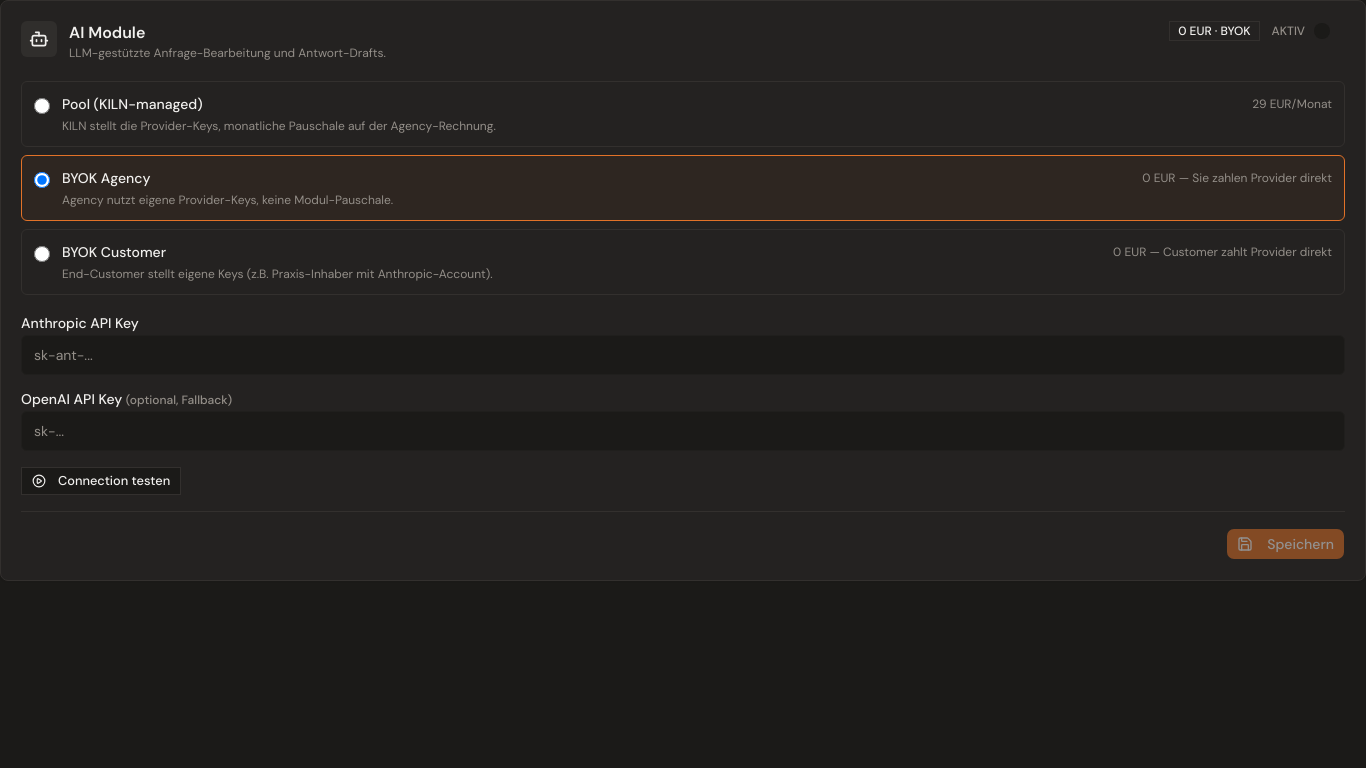
Test: ModuleCard validation on save › blocks save and shows error when BYOK form is empty
# Save is initially disabled (no dirty state) — force-dirty by editing one input
Type "wrong-prefix" into the password field labelled "Anthropic API Key". click: {"x": 683, "y": 355}
box: [21,335,1345,375]
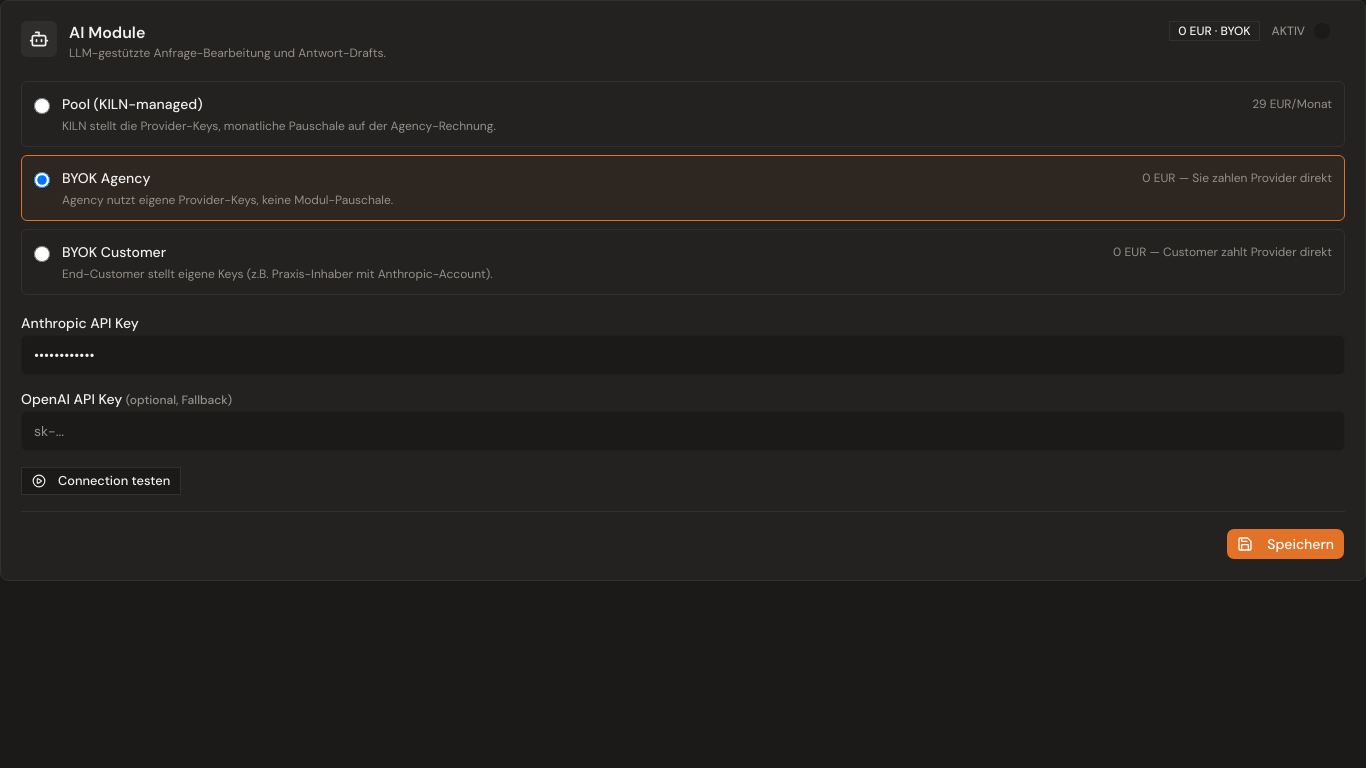
Click the button "Speichern". click: {"x": 1286, "y": 544}
box: [1226,528,1345,560]
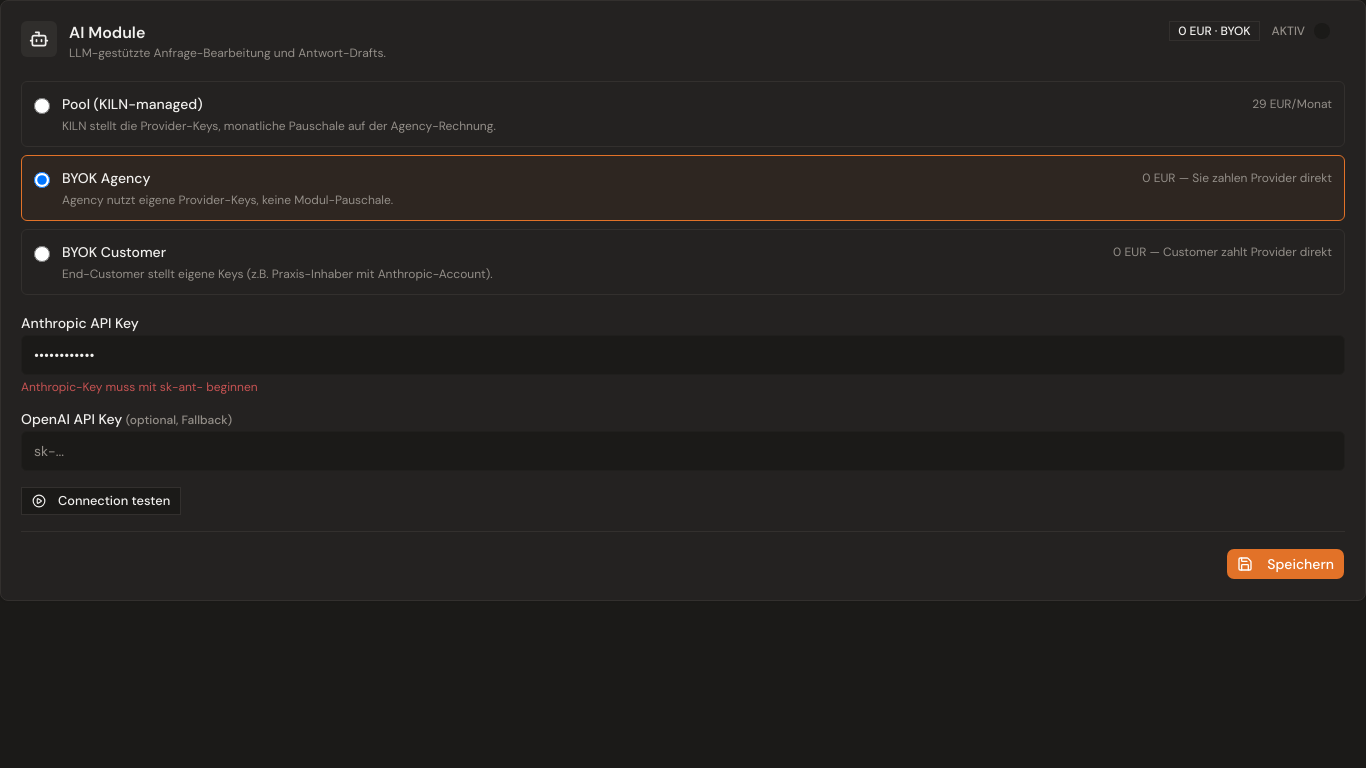
Expected: the text "Anthropic-Key muss mit sk-ant- beginnen" is shown, [21,379,258,395]
